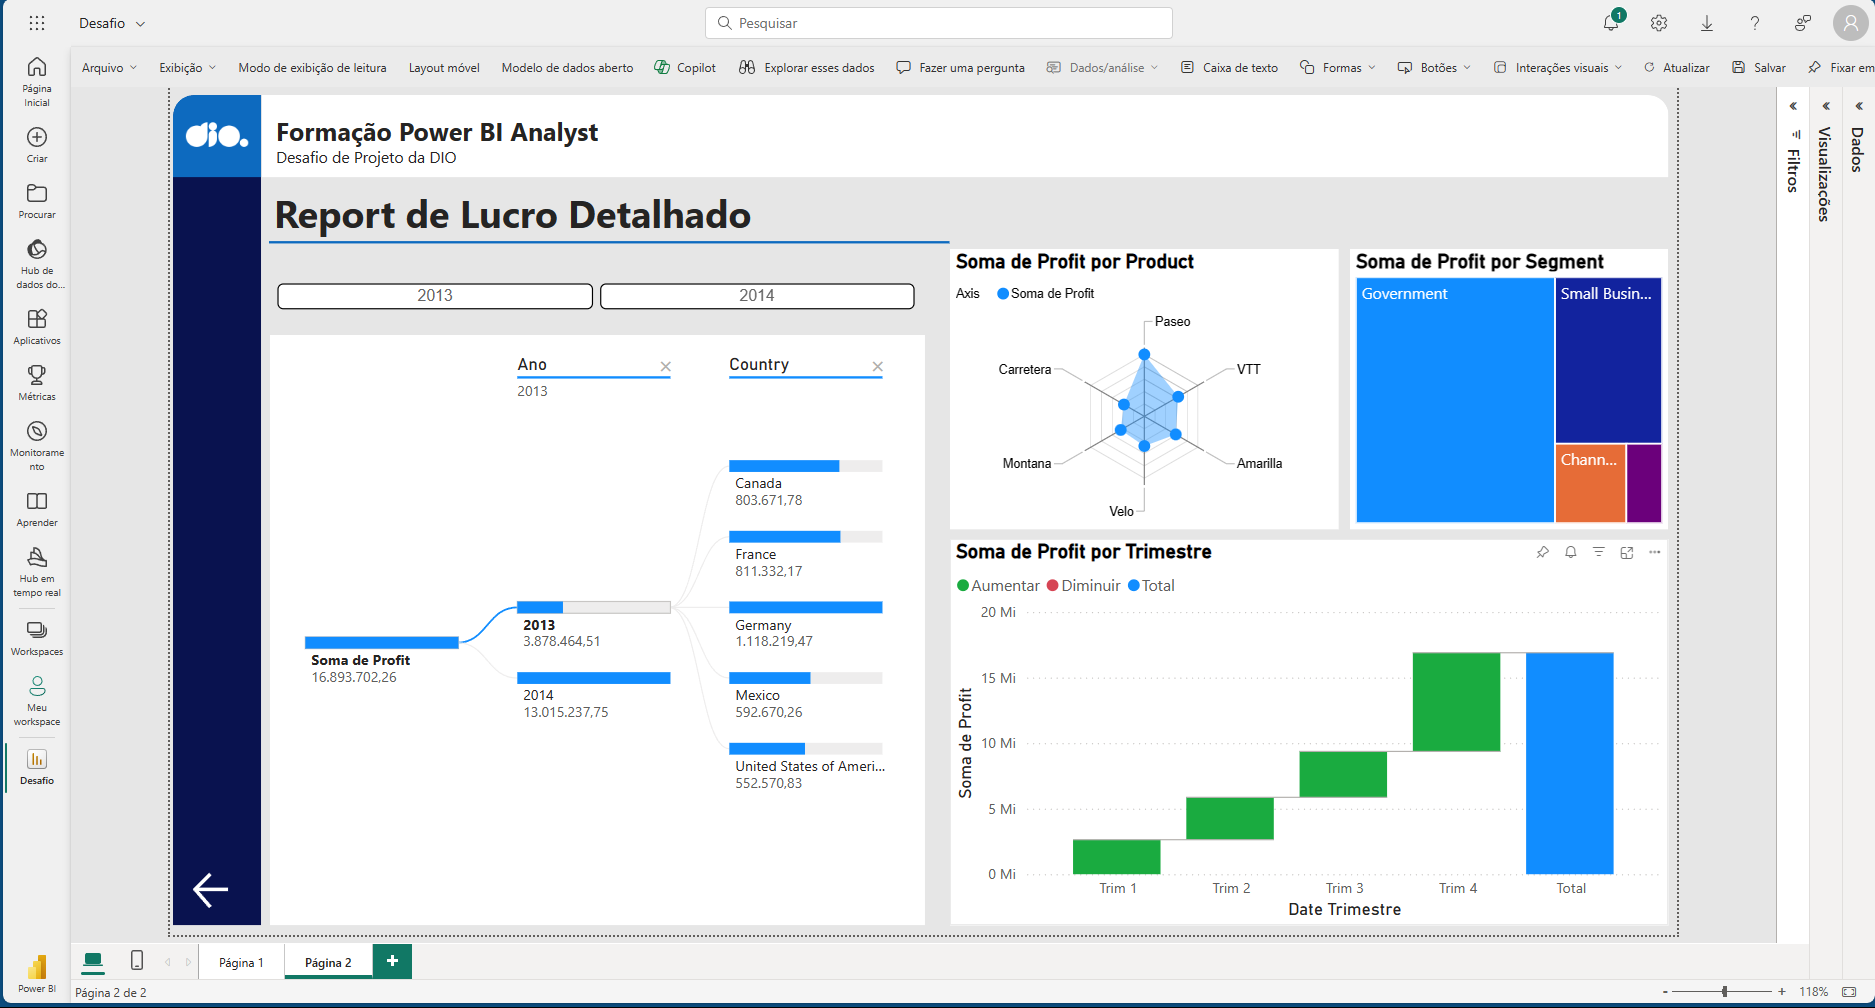

This screenshot's page, from the dashboard's own definition file:
{"tool":"powerbi","page":{"name":"Página 2","canvas":[1280,720],"ordinal":1},"visuals":[{"type":"textbox","box":[83.2,80,424.4,57.8],"z":0,"group":"g1"},{"type":"shape","box":[2.9,6.8,74.9,705.2],"z":0},{"type":"shape","box":[84.3,128.9,577.8,5.6],"z":1000,"group":"g1"},{"type":"shape","box":[84.4,198.9,555.6,513.3],"z":1000},{"type":"shape","box":[2.9,6.8,74.9,70],"z":2000},{"type":"image","title":"Logo_Dio","box":[8.8,23.3,63.2,36],"z":3000},{"type":"shape","box":[77.8,6.8,1194.4,70],"z":4000},{"type":"textbox","box":[84.6,17.5,291.8,59.3],"z":5000},{"type":"shape","box":[662.2,383.3,610,328.9],"z":6000},{"type":"group","id":"g1","title":"Title Report","box":[83.2,80,578.9,57.8],"z":7000},{"type":"waterfallChart","title":"Soma de Profit por Trimestre","fields":{"Category":["financials.Date.Variation.Hierarquia de datas.Trimestre"],"Y":["Sum(financials.Profit)"]},"box":[662.2,383.3,610,328.9],"z":8000},{"type":"decompositionTreeVisual","title":"Sales X Segment -Pie","fields":{"Analyze":["Sum(financials.Profit)"],"ExplainBy":["financials.Date.Variation.Hierarquia de datas.Ano","financials.Country"]},"box":[84.4,198.9,555.6,513.3],"z":9000},{"type":"RadarChart1446119667547","title":"Soma de Profit por Product","fields":{"Y":["Sum(financials.Profit)"],"Category":["financials.Product"]},"box":[662.2,137.8,330,237.8],"z":10000},{"type":"actionButton","box":[15.6,662.2,47.8,40],"z":11000},{"type":"treemap","title":"Soma de Profit por Segment","fields":{"Values":["Sum(financials.Profit)"],"Group":["financials.Segment"]},"box":[1002.2,137.8,270,237.8],"z":12000},{"type":"ChicletSlicer1448559807354","fields":{"Category":["financials.Date.Variation.Hierarquia de datas.Ano"]},"box":[83.3,158.9,556.7,40],"z":13000}]}

Visuals, with their boxes on the page's 1280x720 design canvas (x1, y1, x2, y2). These are canvas units, not pixel positions in the 1875x1008 screenshot, which may show the page scaled, cropped or inside an application window:
textbox: (83,80,508,138)
shape: (3,7,78,712)
shape: (84,129,662,134)
shape: (84,199,640,712)
shape: (3,7,78,77)
"Logo_Dio" image: (9,23,72,59)
shape: (78,7,1272,77)
textbox: (85,18,376,77)
shape: (662,383,1272,712)
"Title Report" group: (83,80,662,138)
"Soma de Profit por Trimestre" waterfallChart: (662,383,1272,712)
"Sales X Segment -Pie" decompositionTreeVisual: (84,199,640,712)
"Soma de Profit por Product" RadarChart1446119667547: (662,138,992,376)
actionButton: (16,662,63,702)
"Soma de Profit por Segment" treemap: (1002,138,1272,376)
ChicletSlicer1448559807354 - financials.Date.Variation.Hierarquia de datas.Ano: (83,159,640,199)
